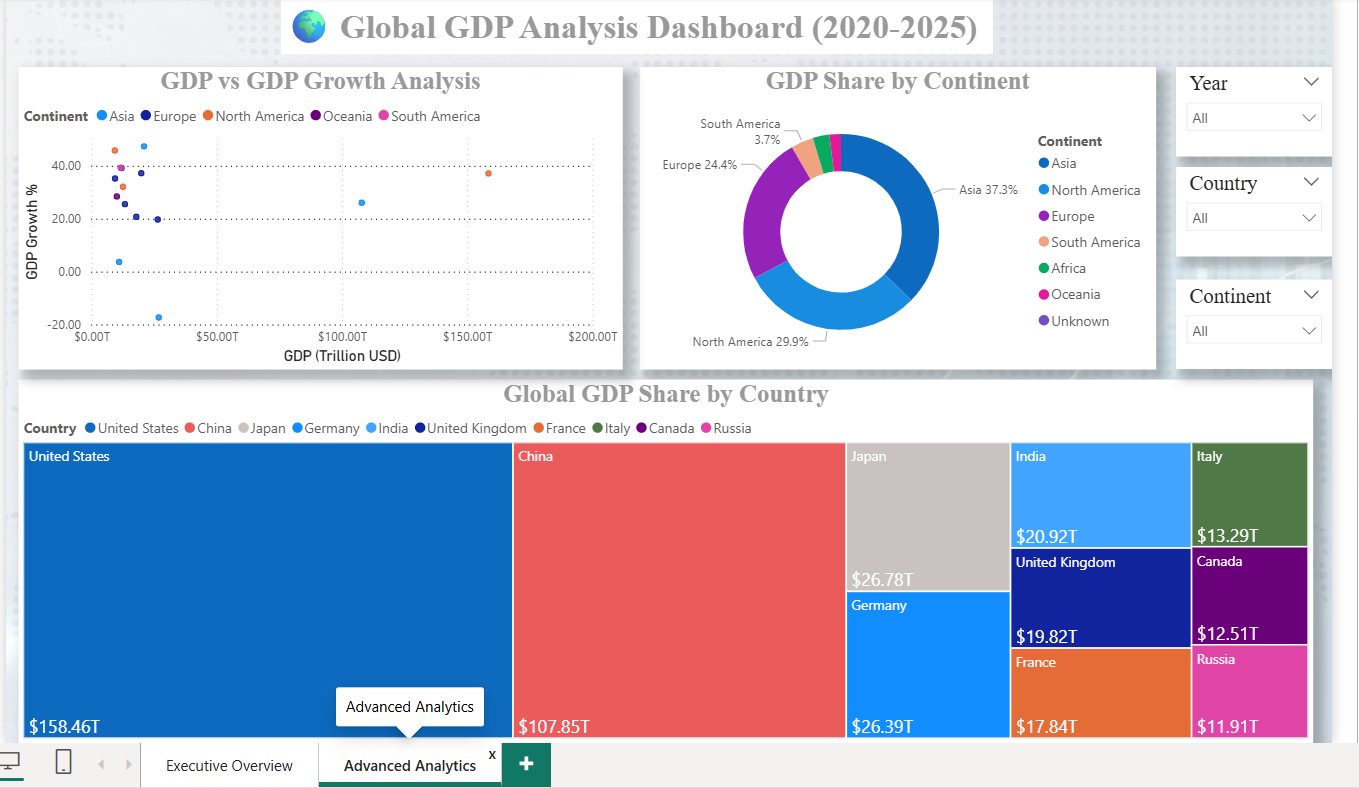

The dashboard page shown, as its layout file describes it:
{"tool":"powerbi","page":{"name":"Advanced Analytics","canvas":[1280,720],"ordinal":1},"visuals":[{"type":"donutChart","title":"GDP Share by Continent","fields":{"Category":["cleaned_gdp_data.Continent"],"Y":["cleaned_gdp_data.GDP ($Trillion)"]},"box":[612,67.2,498.1,292.3],"z":0},{"type":"treemap","title":"Global GDP Share by Country","fields":{"Group":["cleaned_gdp_data.Country"],"Values":["cleaned_gdp_data.GDP ($Trillion)"]},"box":[12.1,369.2,1249.9,351.1],"z":1},{"type":"scatterChart","title":"GDP vs GDP Growth Analysis","fields":{"X":["cleaned_gdp_data.GDP ($Trillion)"],"Y":["Sum(cleaned_gdp_data.GDP Growth %)"],"Category":["cleaned_gdp_data.Country"],"Series":["cleaned_gdp_data.Continent"]},"box":[12.3,67.2,583.2,292.3],"z":2},{"type":"slicer","fields":{"Values":["cleaned_gdp_data.Year"]},"box":[1129.3,67.2,150.9,86.4],"z":3},{"type":"slicer","fields":{"Values":["cleaned_gdp_data.Country"]},"box":[1129.3,164.7,150.9,86.4],"z":4},{"type":"slicer","fields":{"Values":["cleaned_gdp_data.Continent"]},"box":[1129.3,273.1,150.9,86.4],"z":5},{"type":"textbox","box":[264.8,0,687.5,54.9],"z":6}]}

Visuals, with their boxes on the page's 1280x720 design canvas (x1, y1, x2, y2). These are canvas units, not pixel positions in the 1359x788 screenshot, which may show the page scaled, cropped or inside an application window:
"GDP Share by Continent" donutChart: 612, 67, 1110, 360
"Global GDP Share by Country" treemap: 12, 369, 1262, 720
"GDP vs GDP Growth Analysis" scatterChart: 12, 67, 596, 360
slicer - cleaned_gdp_data.Year: 1129, 67, 1280, 154
slicer - cleaned_gdp_data.Country: 1129, 165, 1280, 251
slicer - cleaned_gdp_data.Continent: 1129, 273, 1280, 360
textbox: 265, 0, 952, 55
